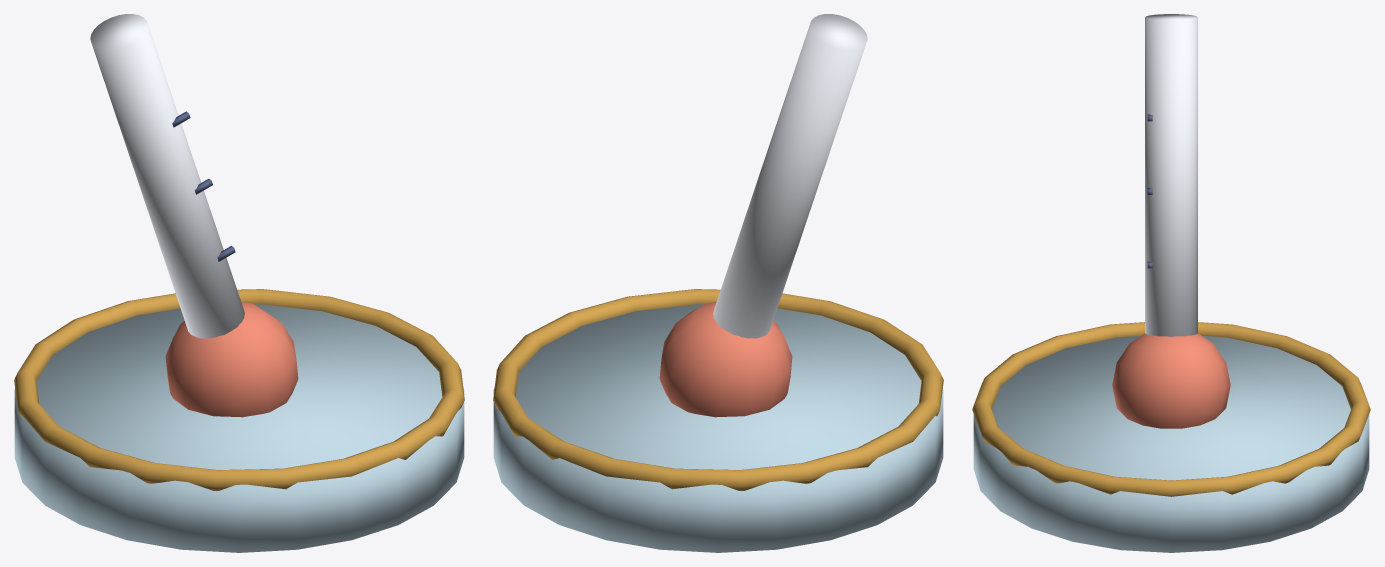
The model's file is opera_doctor_thermo.glb.
The picture shows the model from 3 angles, left to right: view 1: azimuth 30°, elevation 25°; view 2: azimuth 150°, elevation 25°; view 3: azimuth 270°, elevation 25°; orthographic projection. The views are drawn at different scales.
Parts seen in each view (by area): view 1: VisualMesh.002; view 2: VisualMesh.002; view 3: VisualMesh.002.
Boxes of the visible parts, bbox=[...] form: VisualMesh.002: bbox=[14, 14, 464, 552]; VisualMesh.002: bbox=[493, 14, 943, 552]; VisualMesh.002: bbox=[972, 14, 1370, 552].
Bounding box in the file's own units: 2.42 × 2.73 × 2.42.
